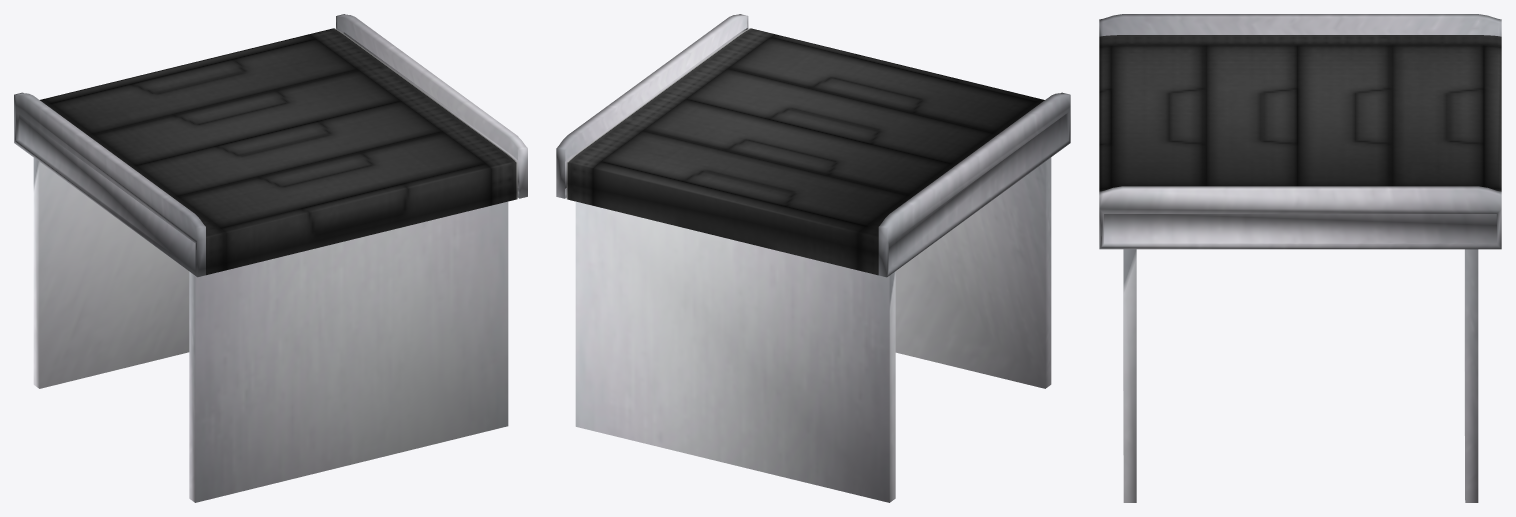
File: Convoyeur_01x.fbx
3 views of the same model, side by side, from view 1: azimuth 30°, elevation 25°; view 2: azimuth 150°, elevation 25°; view 3: azimuth 270°, elevation 25° (orthographic). The views are drawn at different scales.
Visible parts, largest first — view 1: Convoyeur_01x; view 2: Convoyeur_01x; view 3: Convoyeur_01x.
Boxes of the visible parts, x1=… form: Convoyeur_01x: x1=14, y1=14, x2=527, y2=502; Convoyeur_01x: x1=556, y1=14, x2=1070, y2=502; Convoyeur_01x: x1=1099, y1=14, x2=1501, y2=502.
Size of the model in its own units: 1.04 by 1 by 0.8701.
